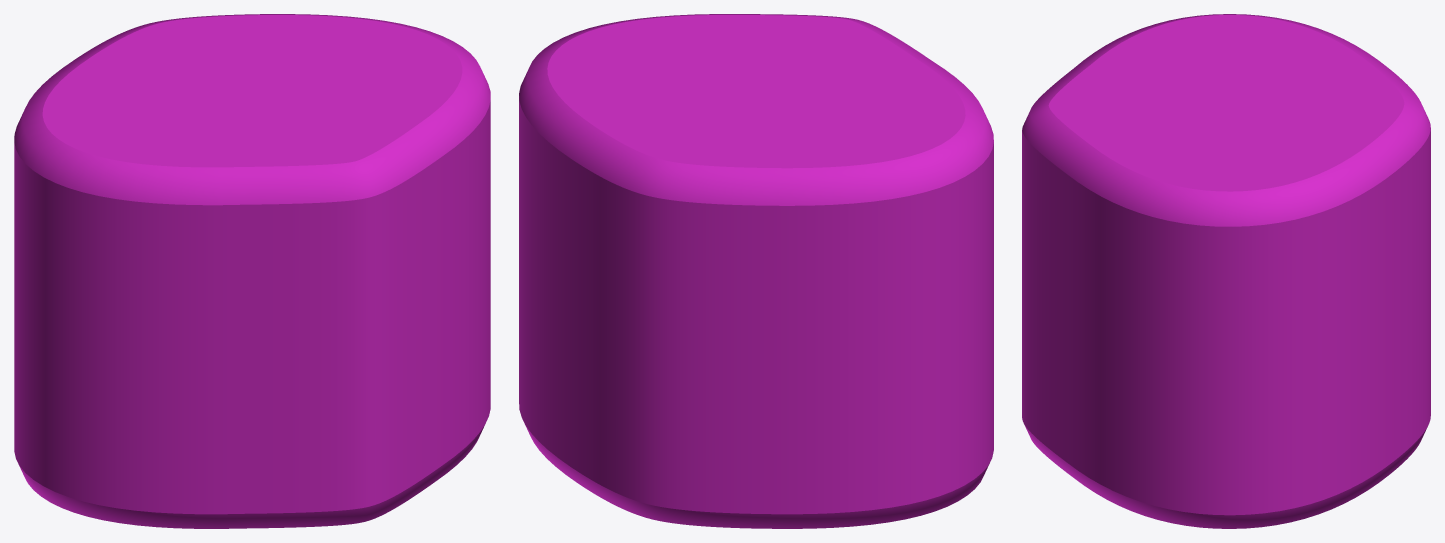
Rendered from FullStop_CoolFont.fbx.
The picture shows the model from 3 angles, left to right: view 1: azimuth 30°, elevation 25°; view 2: azimuth 150°, elevation 25°; view 3: azimuth 270°, elevation 25°; orthographic projection. The views are drawn at different scales.
Visible parts, largest first — view 1: FullStop; view 2: FullStop; view 3: FullStop.
Part boxes in pixels (<box>): FullStop: <box>14,14,490,528</box>; FullStop: <box>519,14,993,528</box>; FullStop: <box>1022,14,1430,528</box>.
Bounding box in the file's own units: 0.1776 × 0.14 × 0.1541.
